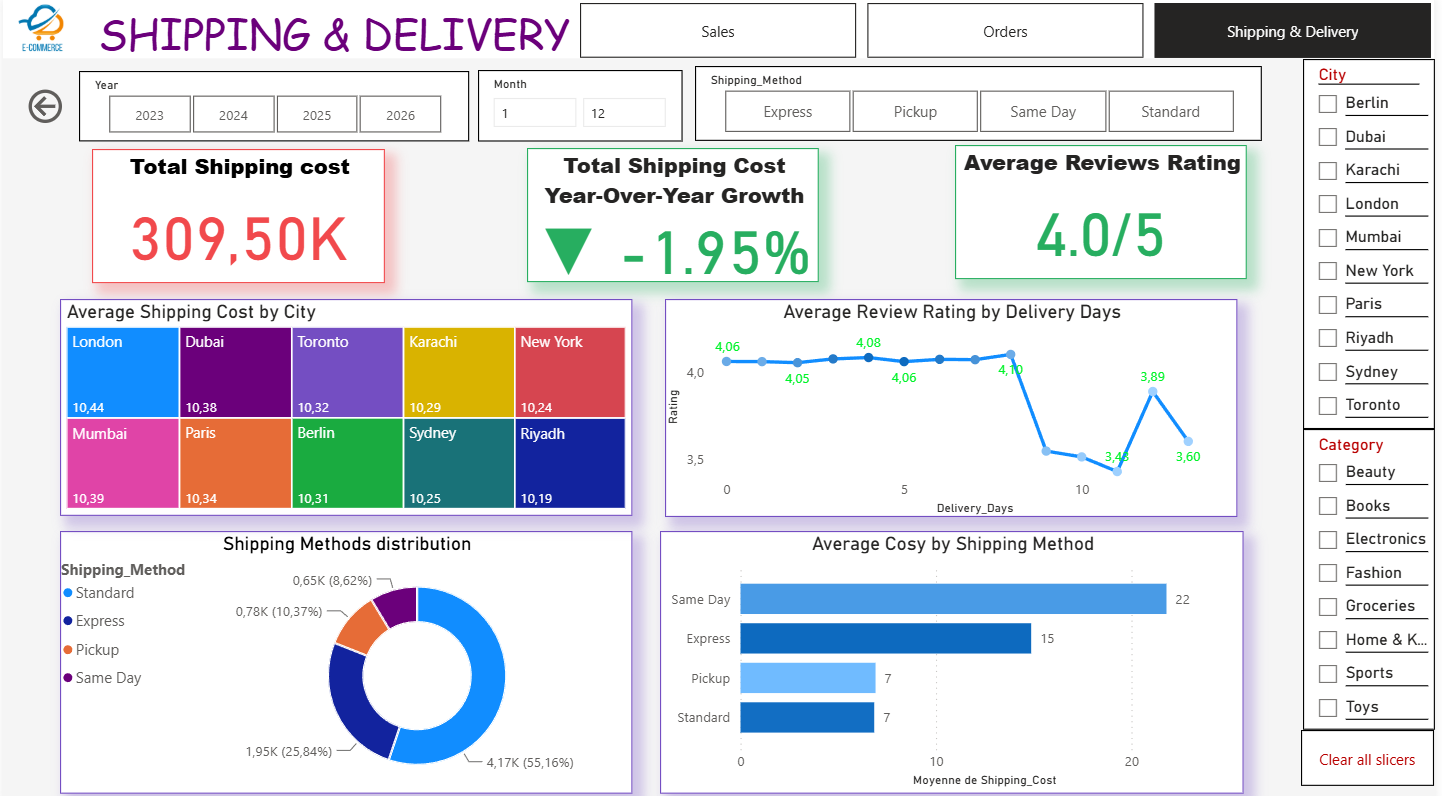

The dashboard page shown, as its layout file describes it:
{"tool":"powerbi","page":{"name":"Shipping & Delivery","canvas":[1280,720],"ordinal":2},"visuals":[{"type":"shape","box":[0,0,1280,53.5],"z":0},{"type":"card","title":"Total Shipping Cost Year-Over-Year Growth","fields":{"Values":["Measure.YOY%_Shipping_cost_Display"]},"box":[468.3,132.9,261.5,120],"z":0},{"type":"slicer","fields":{"Values":["Dim_Date.Year"]},"box":[68.1,64.2,349.2,63.2],"z":1000},{"type":"card","title":"Total Shipping cost","fields":{"Values":["Sum(Fact_Oders.Shipping_Cost)"]},"box":[79.7,133.8,262.4,120],"z":1000},{"type":"slicer","fields":{"Values":["Dim_Date.Month"]},"box":[425,63.2,182.9,64.2],"z":2000},{"type":"slicer","fields":{"Values":["Dim_Geography.City"]},"box":[1162.3,53.5,117.7,330.7],"z":3000},{"type":"card","title":"Average Reviews Rating","fields":{"Values":["Measure.AVG_Ratings_Display"]},"box":[851.9,130.7,261.5,120],"z":3000},{"type":"slicer","fields":{"Values":["Dim_Category.Category"]},"box":[1162.3,384.2,117.7,269.4],"z":4000},{"type":"donutChart","title":"Shipping Methods distribution","fields":{"Category":["Fact_Oders.Shipping_Method"],"Y":["CountNonNull(Fact_Oders.Shipping_Method)"]},"box":[51.1,475.5,511.8,234.8],"z":5000},{"type":"actionButton","box":[1161.4,653.7,118.6,50.2],"z":5000},{"type":"image","box":[0,0,68.1,53.5],"z":6000},{"type":"treemap","title":"Average Shipping Cost by City","fields":{"Group":["Dim_Geography.City"],"Values":["Avg(Fact_Oders.Shipping_Cost)"]},"box":[51.1,268.2,511.8,193.5],"z":7000},{"type":"textbox","box":[80.6,0,446.9,64.5],"z":8000},{"type":"lineChart","title":"Average Review Rating by Delivery Days","fields":{"Category":["Fact_Oders.Delivery_Days"],"Y":["Avg(Fact_Oders.Review_Rating)"]},"box":[592.4,268.2,511.8,194.5],"z":8000},{"type":"slicer","fields":{"Values":["Fact_Oders.Shipping_Method"]},"box":[618.6,60.3,506.7,67.1],"z":9000},{"type":"clusteredBarChart","title":"Average Cosy by Shipping Method","fields":{"Category":["Fact_Oders.Shipping_Method"],"Y":["Avg(Fact_Oders.Shipping_Cost)"]},"box":[587.4,475.7,522.1,234.6],"z":9000},{"type":"actionButton","box":[17.5,75.9,41.8,39.9],"z":10000},{"type":"pageNavigator","box":[516.5,3.9,763.5,49.6],"z":11000}]}

Visuals, with their boxes in screenshot pixels (x1, y1, x2, y2), scaled from the page's 1280x720 canvas onto the 1442x796 screenshot:
shape: BBox(0, 0, 1441, 59)
"Total Shipping Cost Year-Over-Year Growth" card: BBox(528, 147, 822, 280)
slicer - Dim_Date.Year: BBox(77, 71, 470, 141)
"Total Shipping cost" card: BBox(90, 148, 385, 281)
slicer - Dim_Date.Month: BBox(479, 70, 685, 141)
slicer - Dim_Geography.City: BBox(1309, 59, 1441, 425)
"Average Reviews Rating" card: BBox(960, 144, 1254, 277)
slicer - Dim_Category.Category: BBox(1309, 425, 1441, 723)
"Shipping Methods distribution" donutChart: BBox(58, 526, 634, 785)
actionButton: BBox(1308, 723, 1441, 778)
image: BBox(0, 0, 77, 59)
"Average Shipping Cost by City" treemap: BBox(58, 297, 634, 510)
textbox: BBox(91, 0, 594, 71)
"Average Review Rating by Delivery Days" lineChart: BBox(667, 297, 1244, 512)
slicer - Fact_Oders.Shipping_Method: BBox(697, 67, 1268, 141)
"Average Cosy by Shipping Method" clusteredBarChart: BBox(662, 526, 1250, 785)
actionButton: BBox(20, 84, 67, 128)
pageNavigator: BBox(582, 4, 1441, 59)
